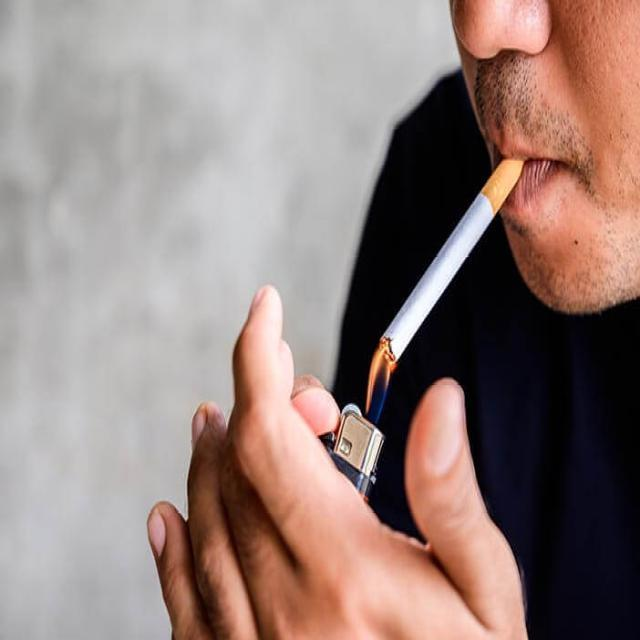rokok: (385, 144, 559, 362)
